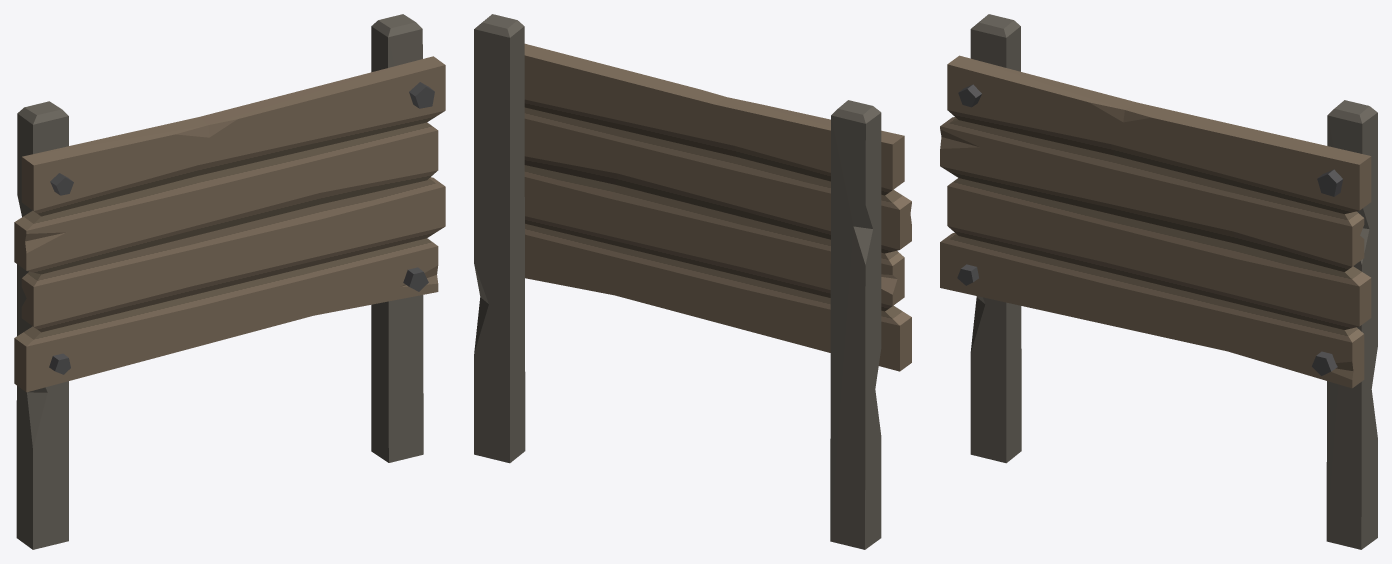
Rendered from SM_Bld_Village_Fence_03.glb.
3 views of the same model, side by side, from view 1: azimuth 30°, elevation 25°; view 2: azimuth 150°, elevation 25°; view 3: azimuth 330°, elevation 25° (orthographic).
Parts seen in each view (by area): view 1: SM_Bld_Village_Fence_03; view 2: SM_Bld_Village_Fence_03; view 3: SM_Bld_Village_Fence_03.
Part boxes in pixels (x1=…): SM_Bld_Village_Fence_03: x1=14, y1=14, x2=445, y2=549; SM_Bld_Village_Fence_03: x1=474, y1=14, x2=911, y2=549; SM_Bld_Village_Fence_03: x1=940, y1=14, x2=1377, y2=549.
Bounding box in the file's own units: 1.75 × 1.72 × 0.2483.
Materials: 1 (1 with a texture image).
